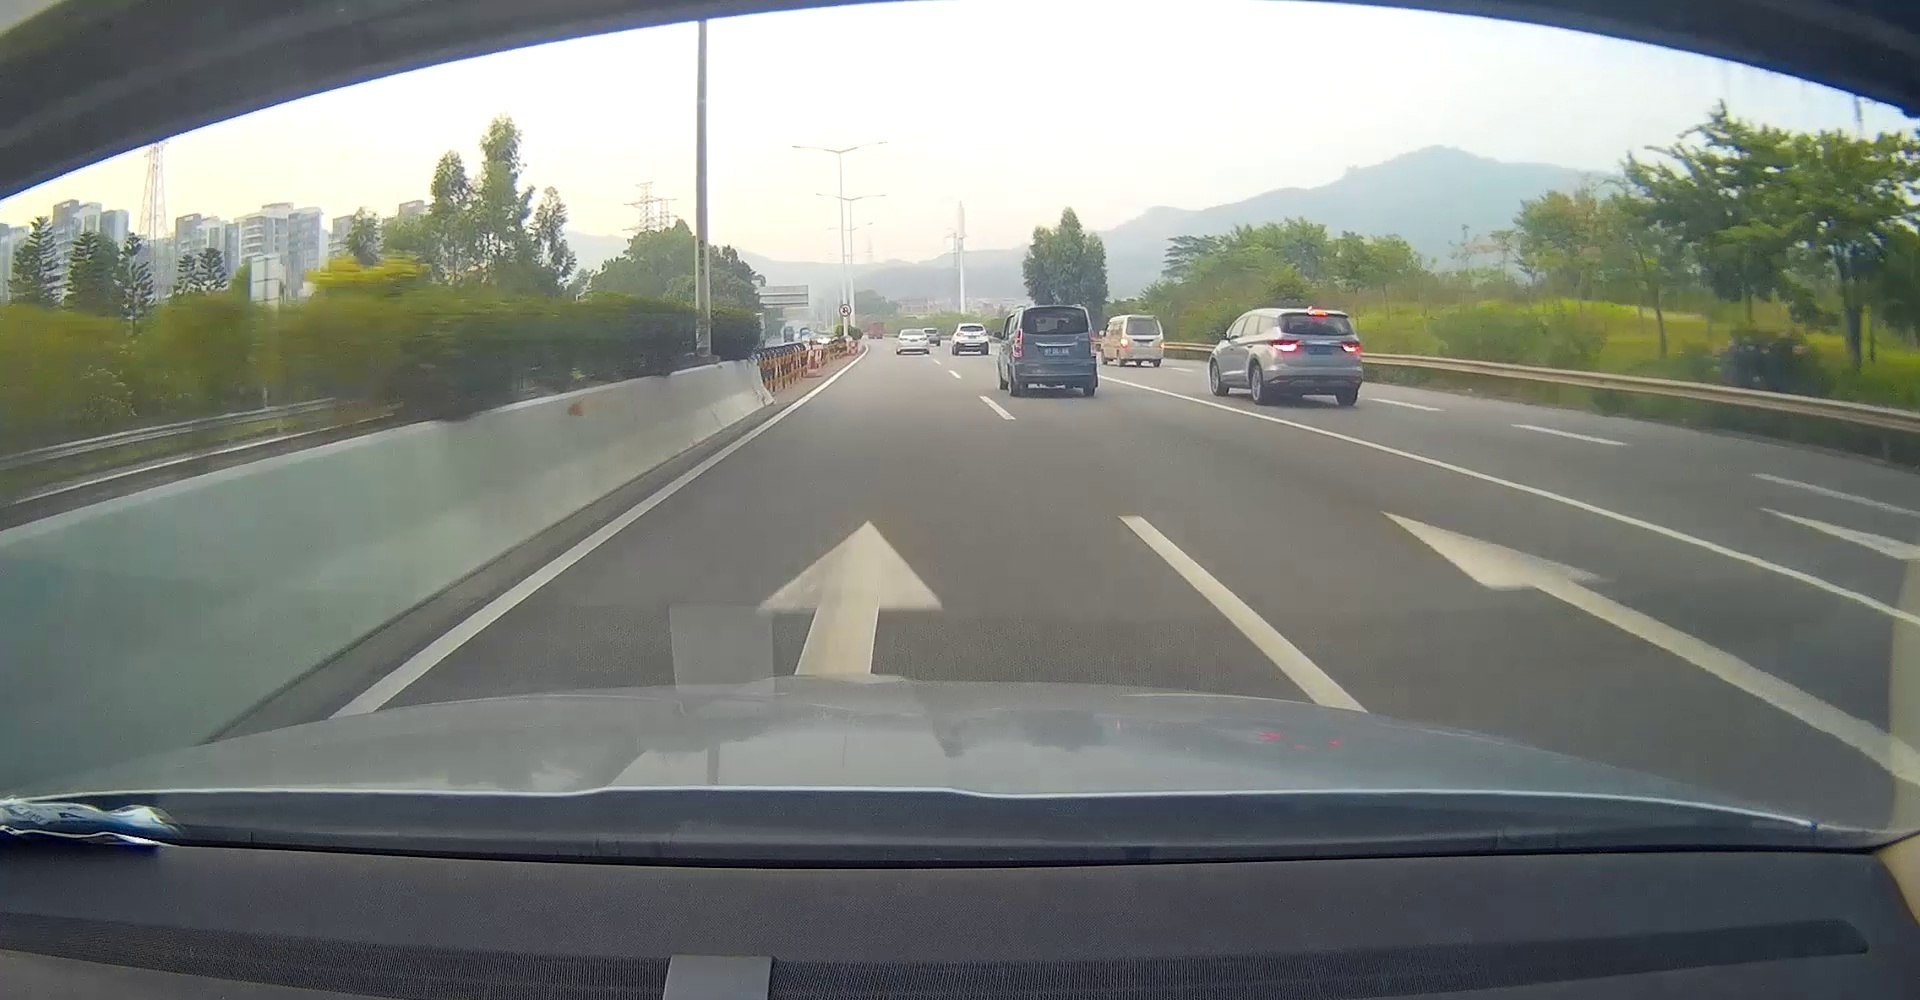L_light: (1272, 338, 1299, 352), (1012, 327, 1023, 357), (1121, 338, 1128, 346)
R_light: (1088, 327, 1097, 357), (1342, 341, 1360, 352), (1161, 339, 1164, 348)
T_light: (1308, 311, 1328, 315), (1048, 329, 1062, 334), (1137, 319, 1147, 321)
day-brake: (1265, 308, 1363, 405), (1116, 313, 1166, 367)
day-no: (1010, 305, 1098, 395)
